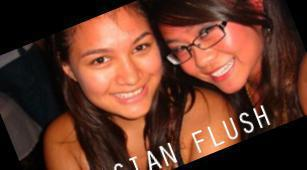Drunk: (75, 22, 159, 113), (162, 21, 254, 89)
